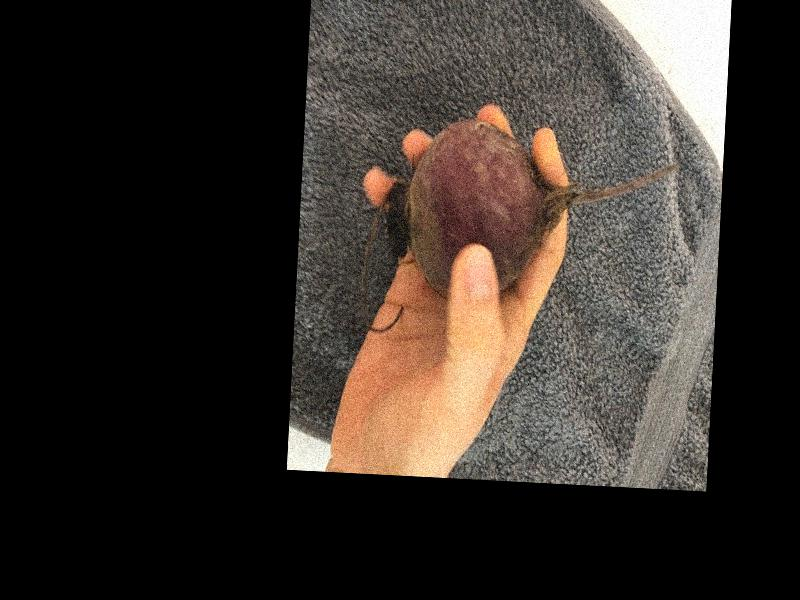Beet: (384, 114, 683, 311)
